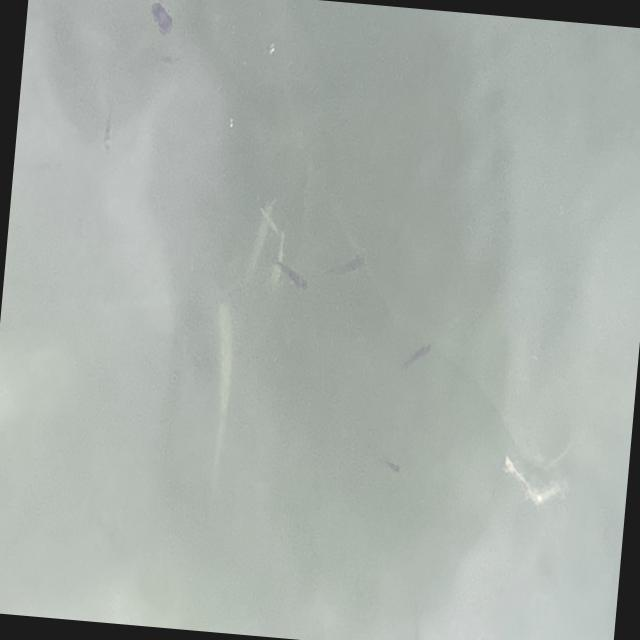Sivrisinek Baligi: (320, 242, 371, 284), (271, 254, 312, 296), (94, 90, 120, 152), (399, 338, 432, 376)
